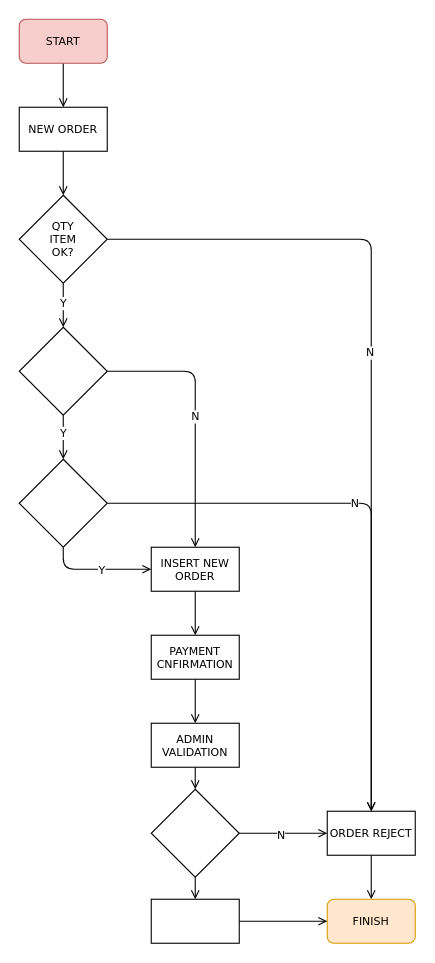
Some shapes in this 435 by 963 pixel diagram are drawn without their labels. The centre of each missing label's shape, as x and y in pixels:
"APPROVE?" goes at point (194, 832).
"COUPON VALID?" goes at point (62, 502).
"SHIPPING" goes at point (194, 920).
"USING COUPON?" goes at point (62, 370).
